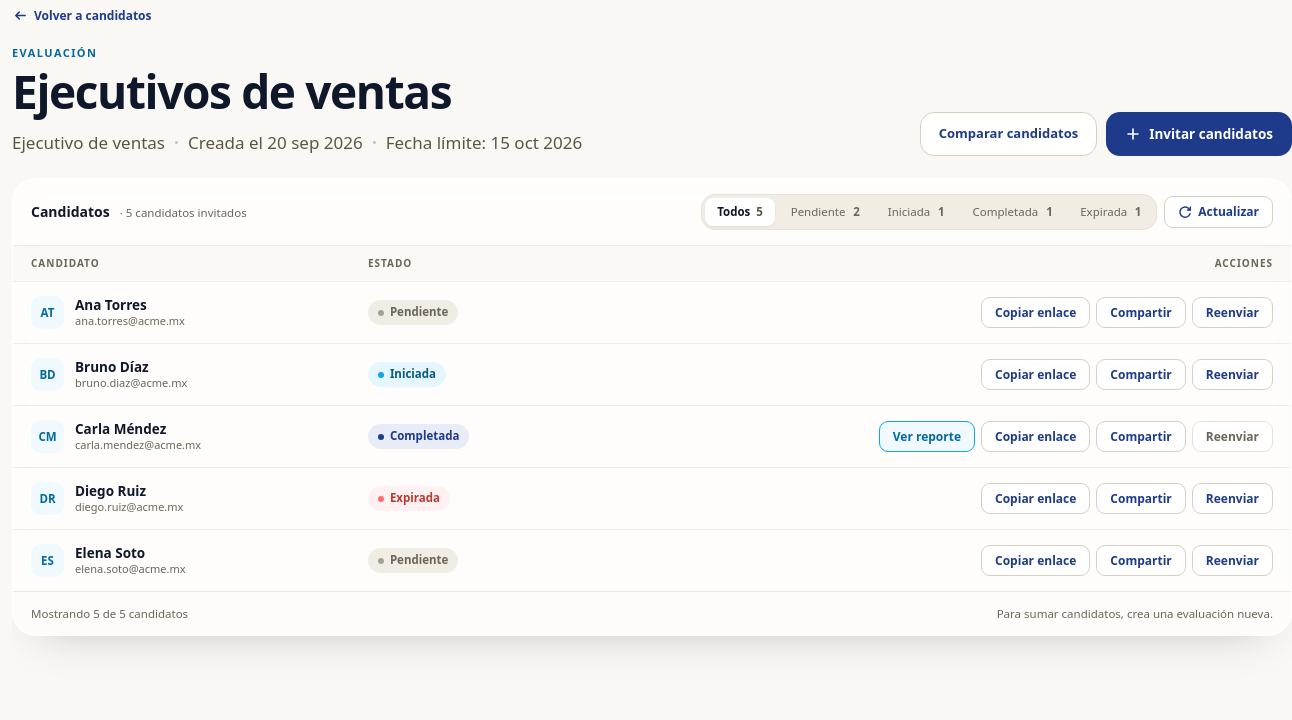
Test case: EvaluacionDetallePage · reenviar › reenvía la invitación y lo confirma con un toast
The width and height of the screenshot is (1292, 720).
Click the button named "Reenviar la invitación a Ana Torres": (1232, 313) [1192,297,1273,328]
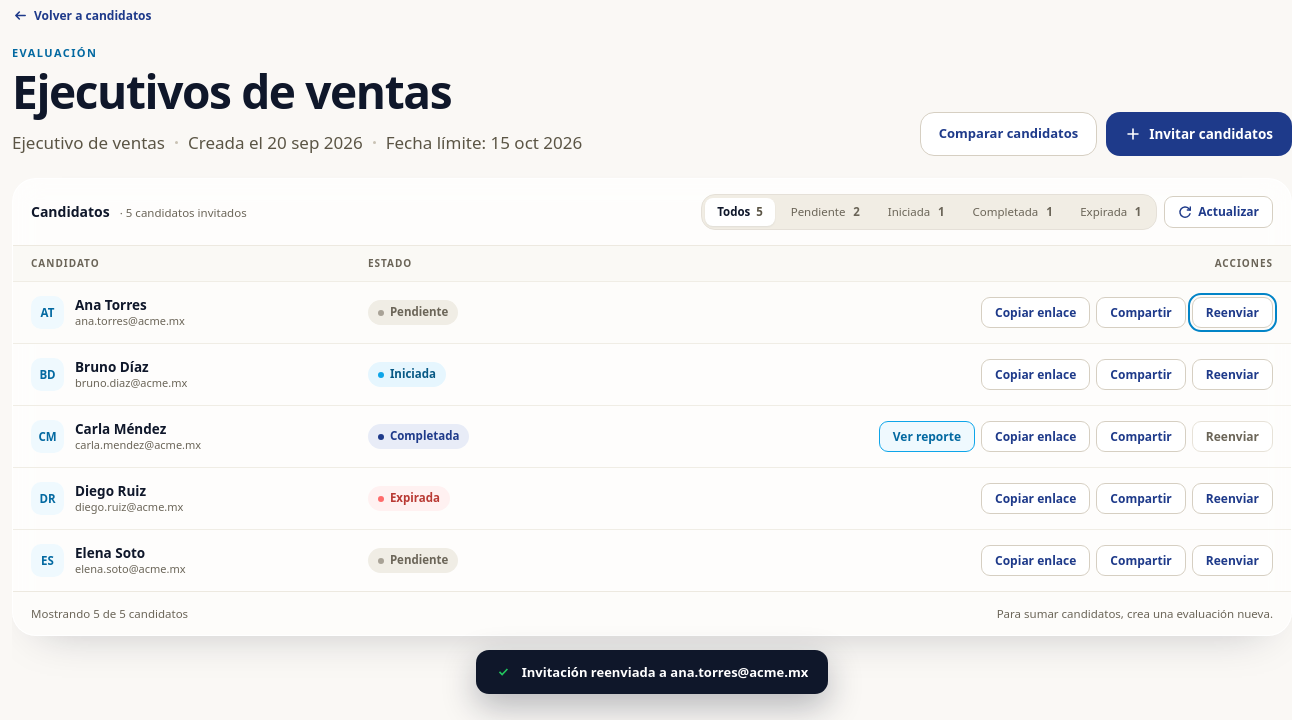
Check: the text "Invitación reenviada a ana.torres@acme.mx" is shown, box [522,663,808,681]
